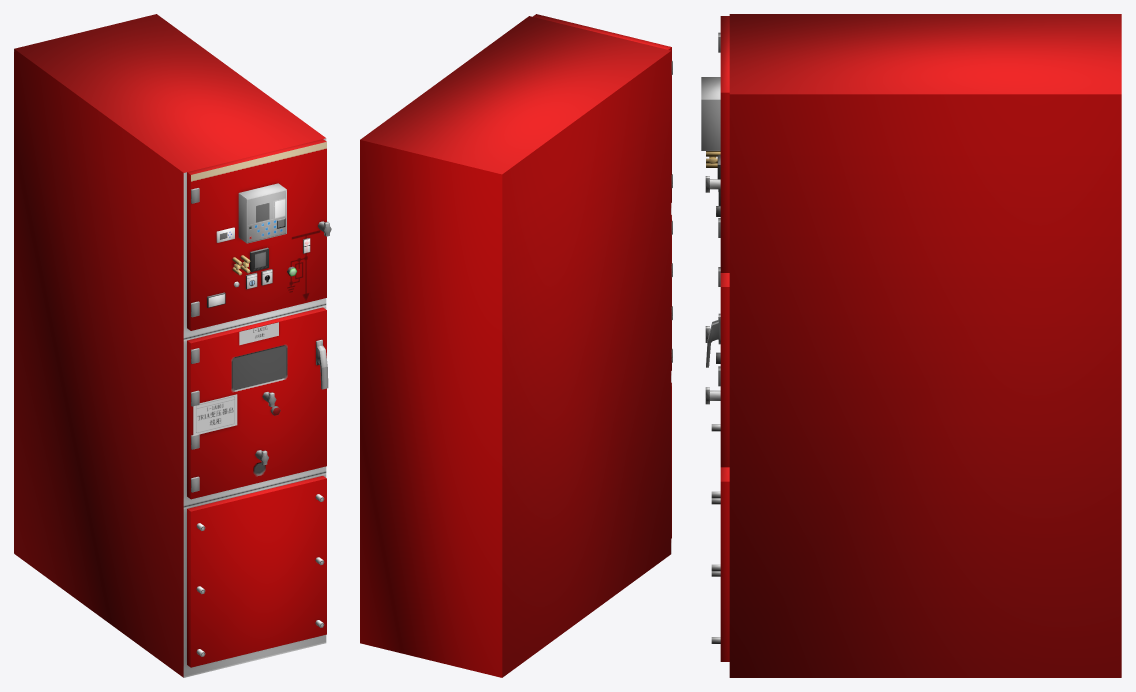
The model's file is MGT.glb.
The picture shows the model from 3 angles, left to right: view 1: azimuth 30°, elevation 25°; view 2: azimuth 150°, elevation 25°; view 3: azimuth 270°, elevation 25°; orthographic projection. The views are drawn at different scales.
Parts seen in each view (by area): view 1: Cylinder001; view 2: Cylinder001; view 3: Cylinder001.
Boxes of the visible parts, box(x1,y1,x2,y2) form: Cylinder001: box(14, 14, 331, 677); Cylinder001: box(360, 14, 672, 677); Cylinder001: box(701, 14, 1121, 677).
Bounding box in the file's own units: 65 × 220 × 144.
1 material, 1 textured.
